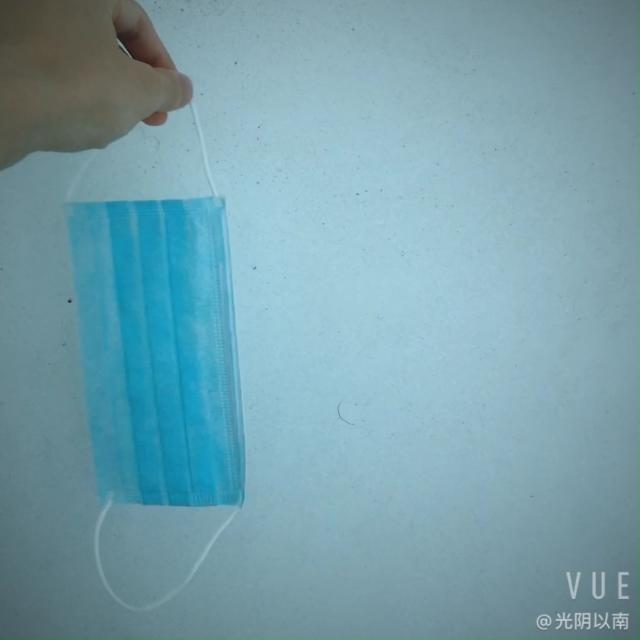non-organic waste: (52, 189, 257, 530)
